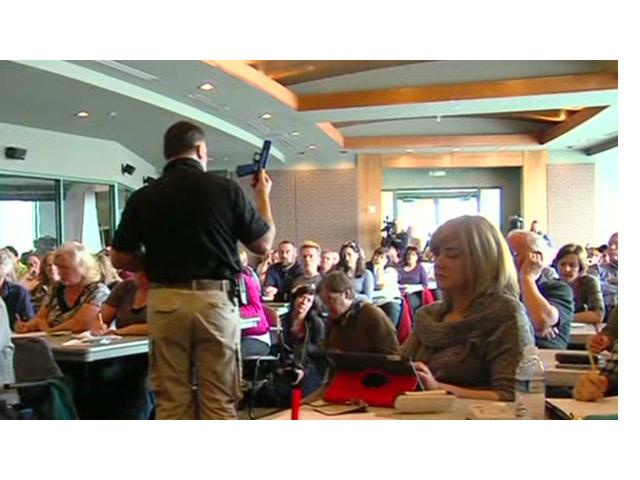pistol: (235, 138, 274, 183)
